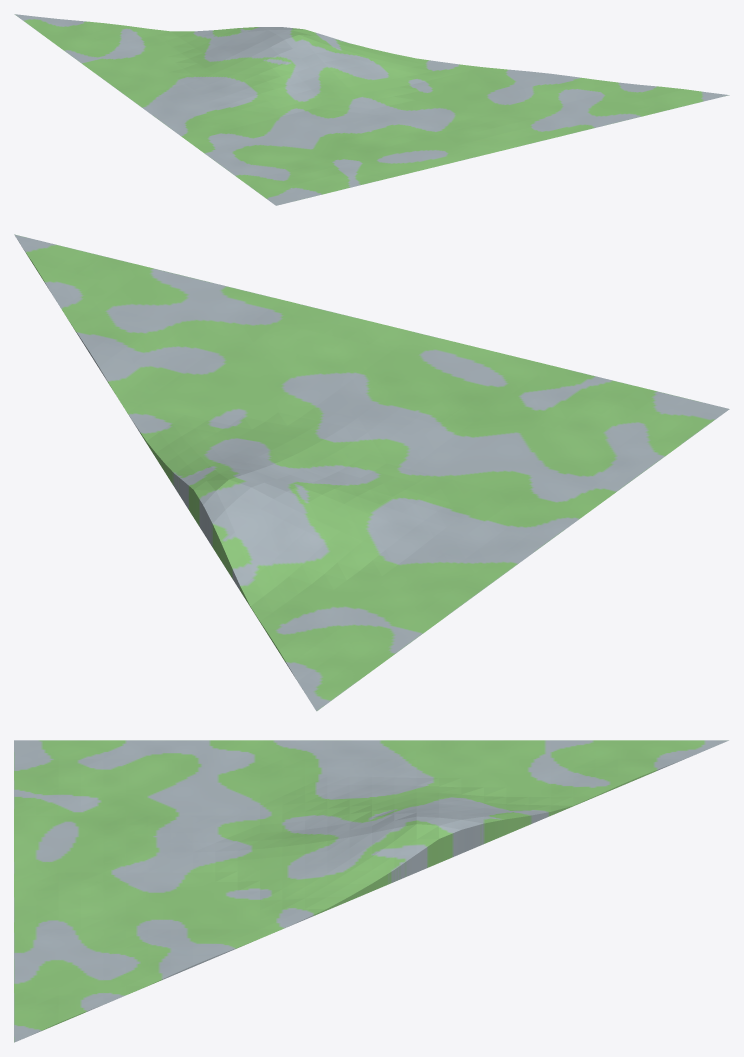
Rendered from Grass_RockyGround_07_NW.obj.
The picture shows the model from 3 angles, top to bottom: view 1: azimuth 30°, elevation 25°; view 2: azimuth 150°, elevation 25°; view 3: azimuth 270°, elevation 25°; orthographic projection. The views are drawn at different scales.
Size of the model in its own units: 10 by 0.4554 by 10.
Materials: 1 (1 with a texture image).
